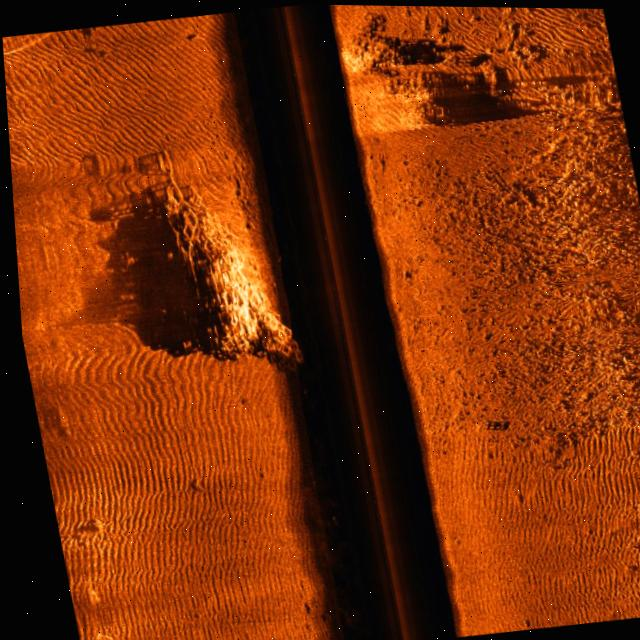artificial reef: (136, 177, 309, 376)
